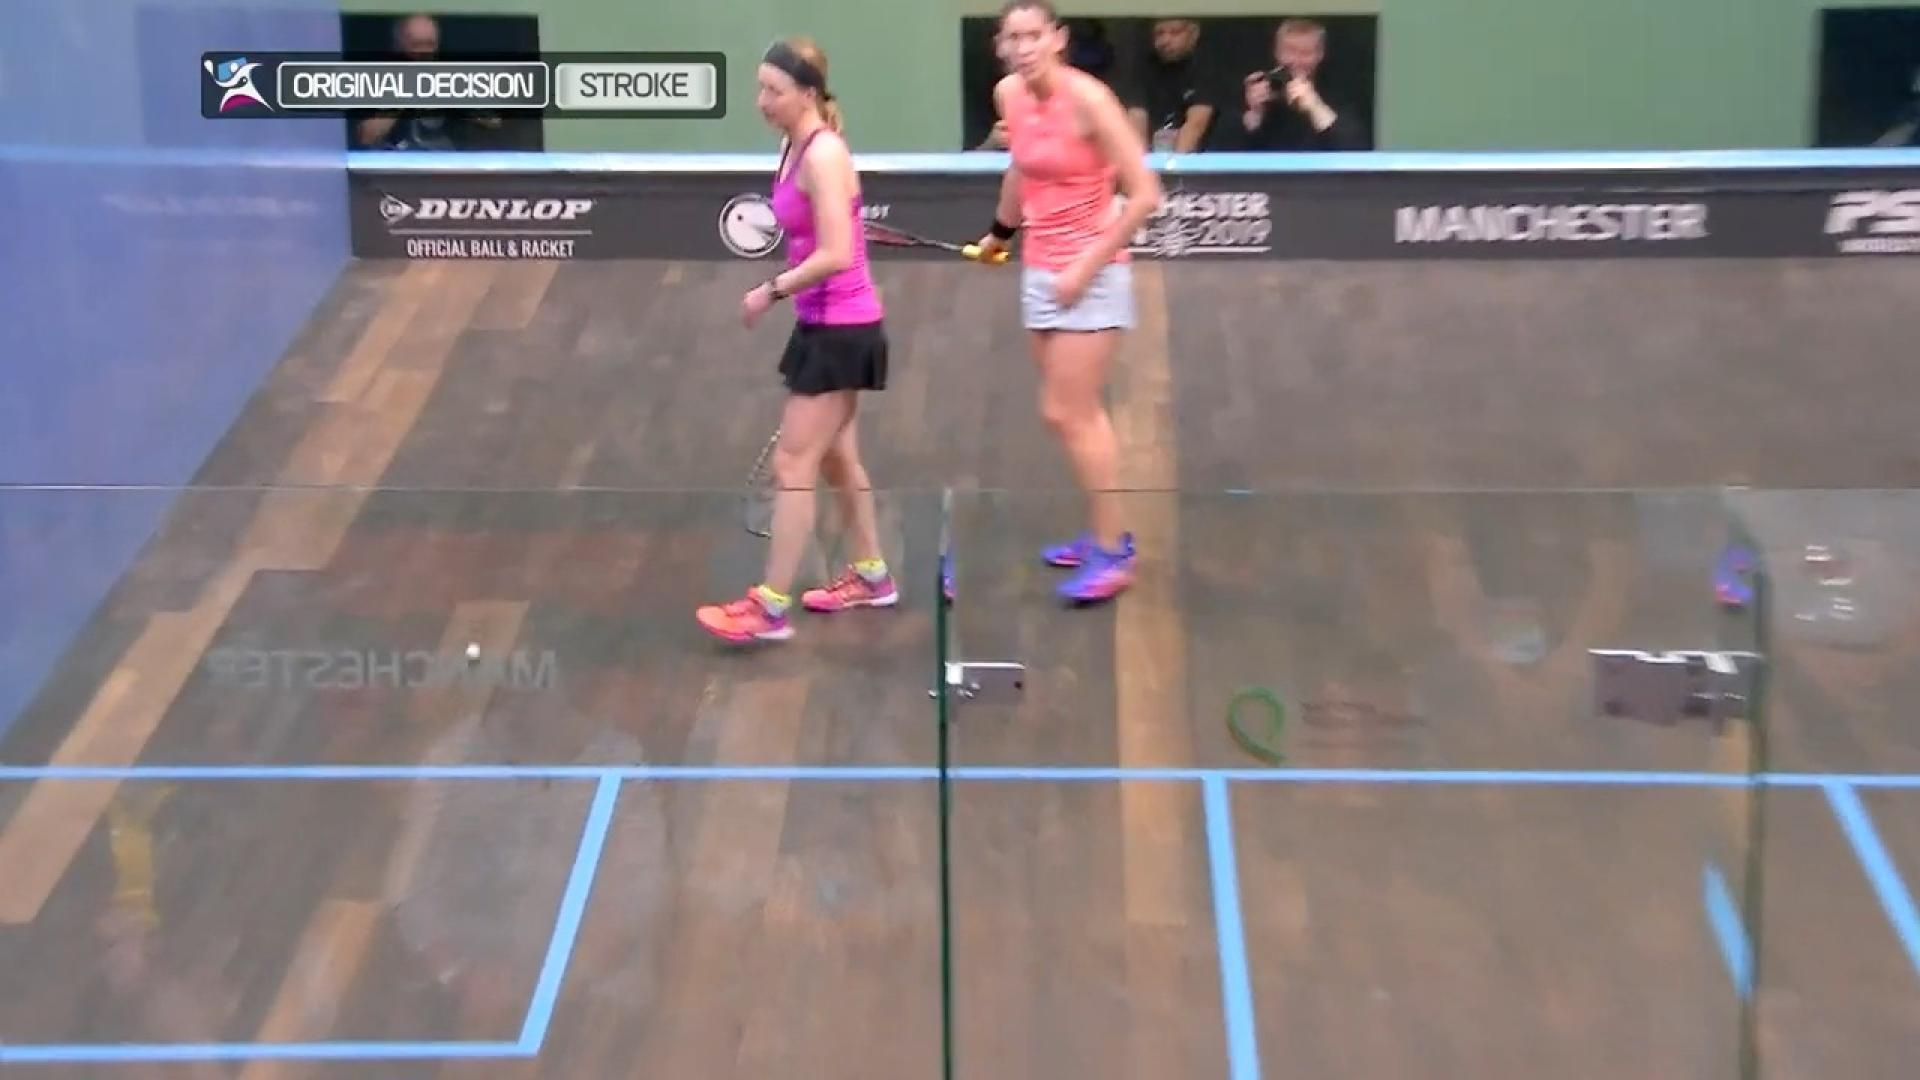Squash-Ball: (443, 626, 508, 684)
